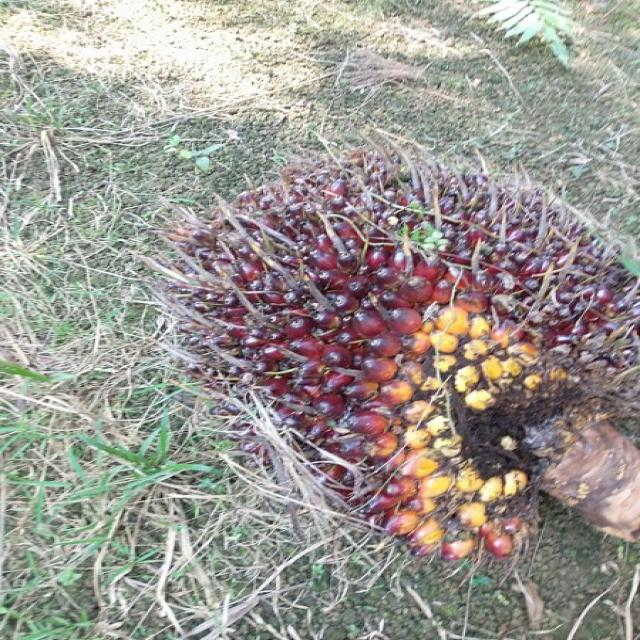fraksi 1: (142, 155, 640, 561)
